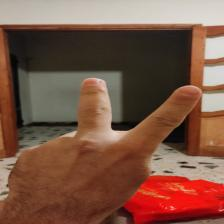two: (18, 75, 204, 205)
